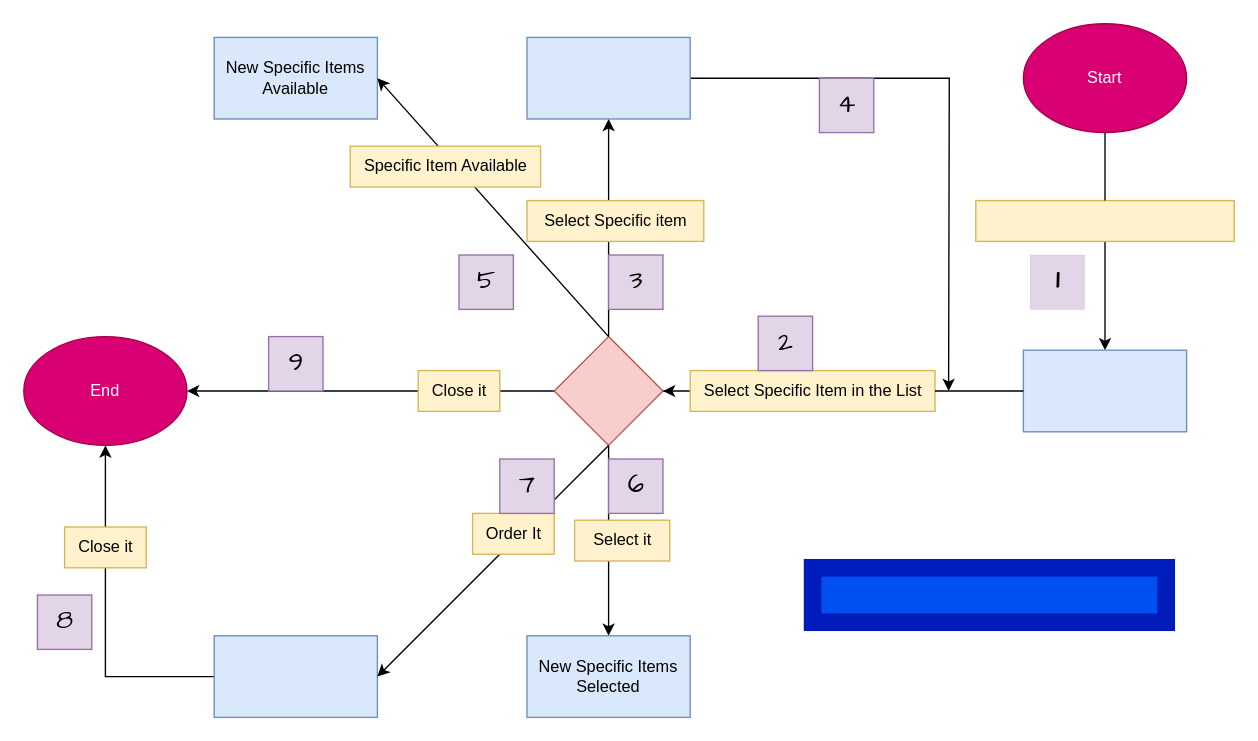
The diagram is 1258 pixels wide and 741 high, and some of its shapes have lost their labels. Here are the shapes that lost their labels. From the top down, the centre of each, then its label:
point 608,77: Specific Item not Available
point 1104,220: Search Specific item In the List
point 1104,390: List Menu
point 988,594: Online Food Order System
point 295,675: New Specific Items Ordered
